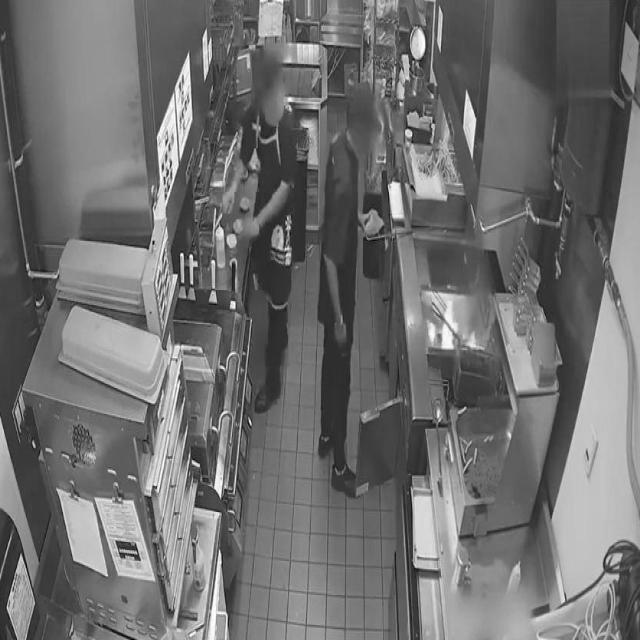smoke: (440, 298, 460, 347), (466, 326, 480, 348)
